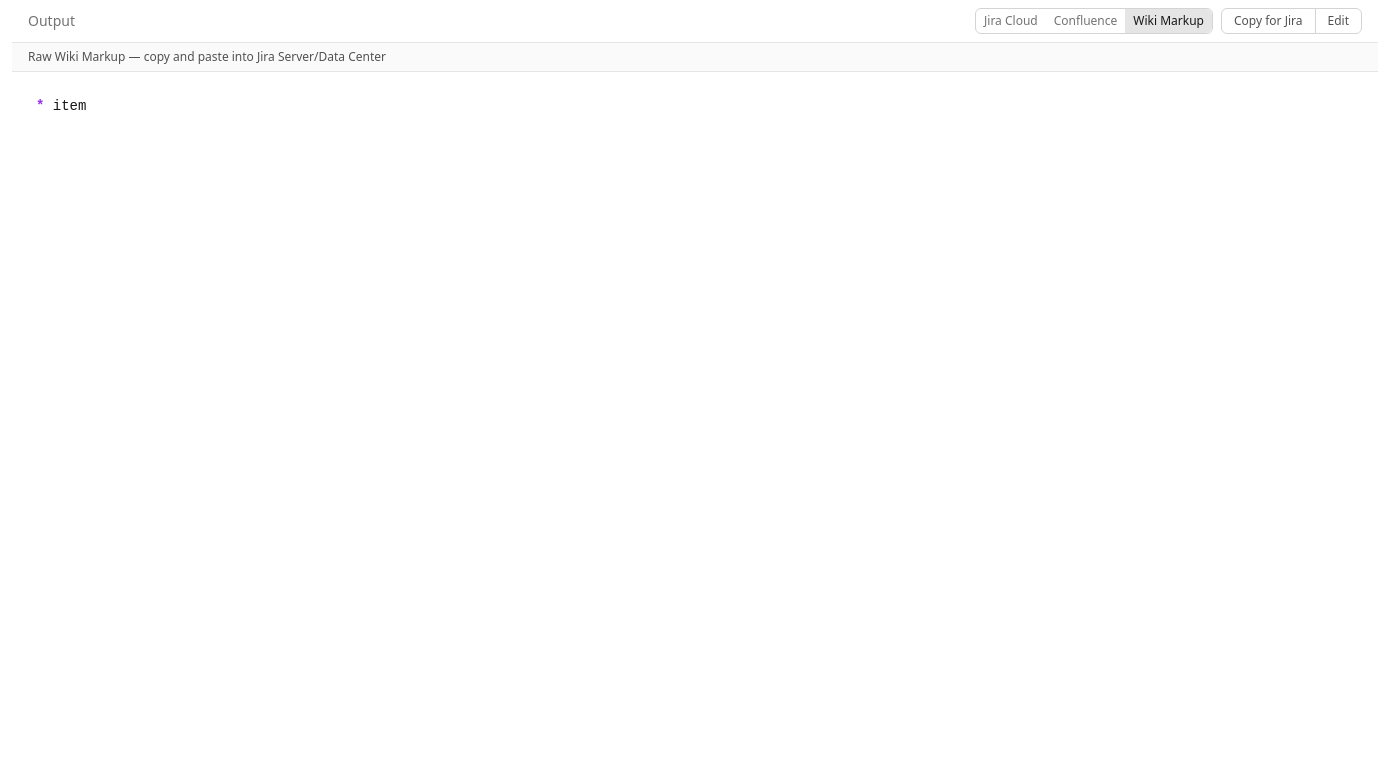
it: JiraOutput — wiki edit desync warning › shows a warning toast when entering wiki edit mode
Click the button "Edit".
click(1338, 21)  # box x1=1314 y1=9 x2=1361 y2=33
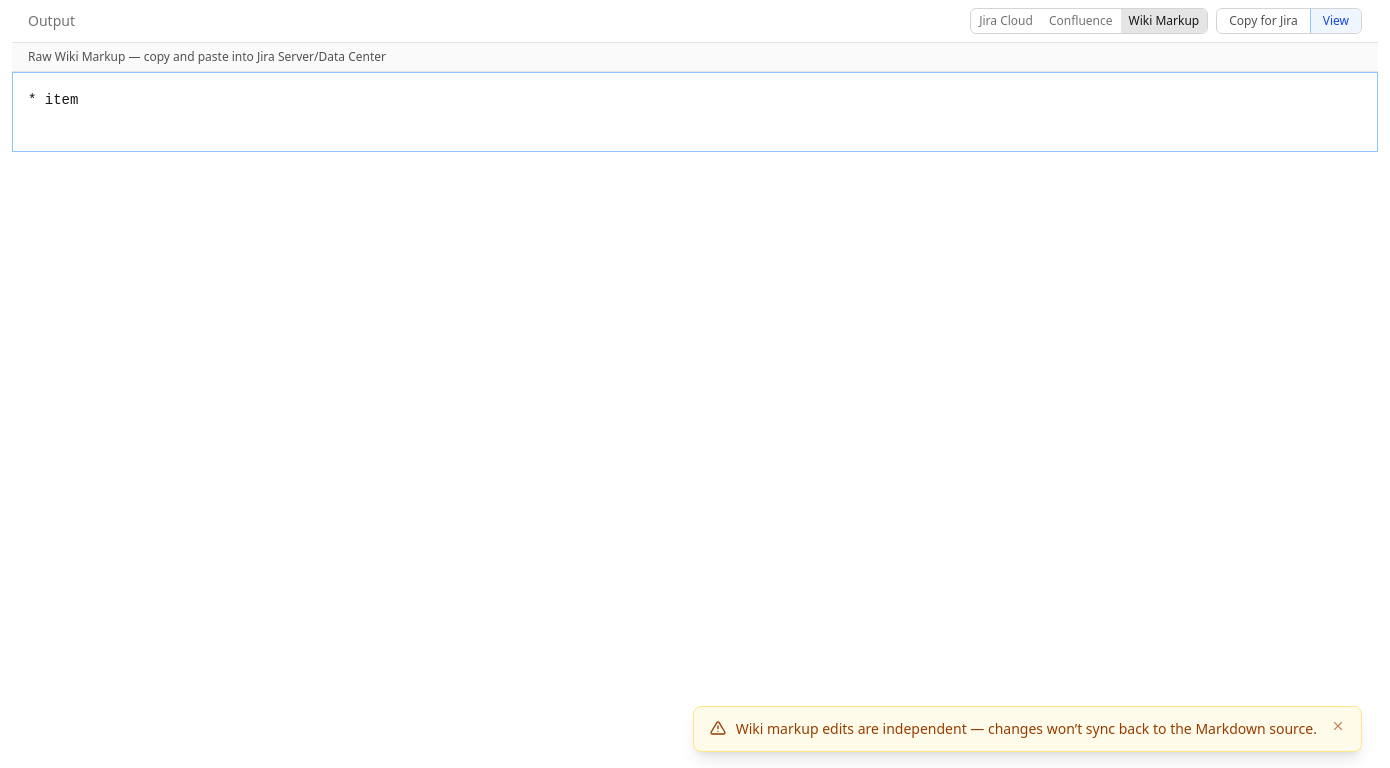
Result: the text "Wiki markup edits are independent" is shown at x1=736 y1=719 x2=1317 y2=738
